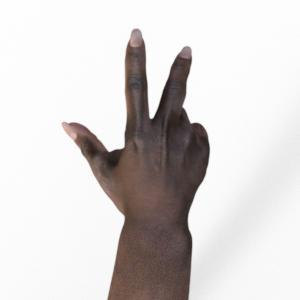scissors: (62, 29, 209, 300)
